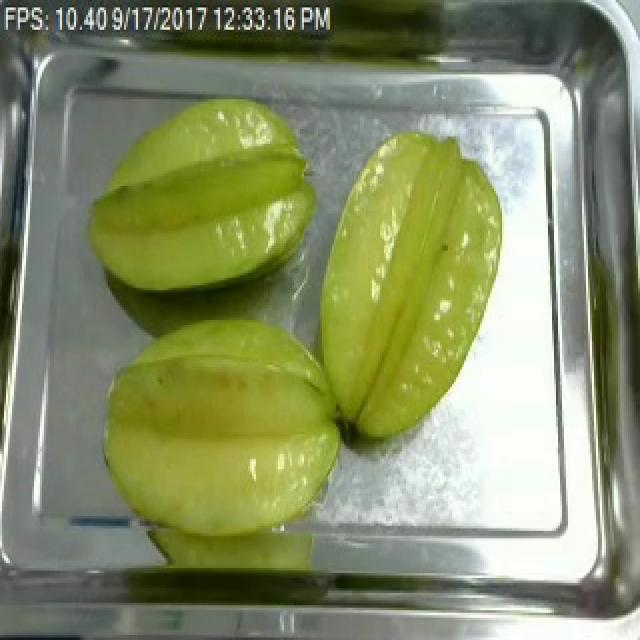fruit: (84, 300, 354, 571), (298, 124, 508, 454), (76, 84, 330, 303)
